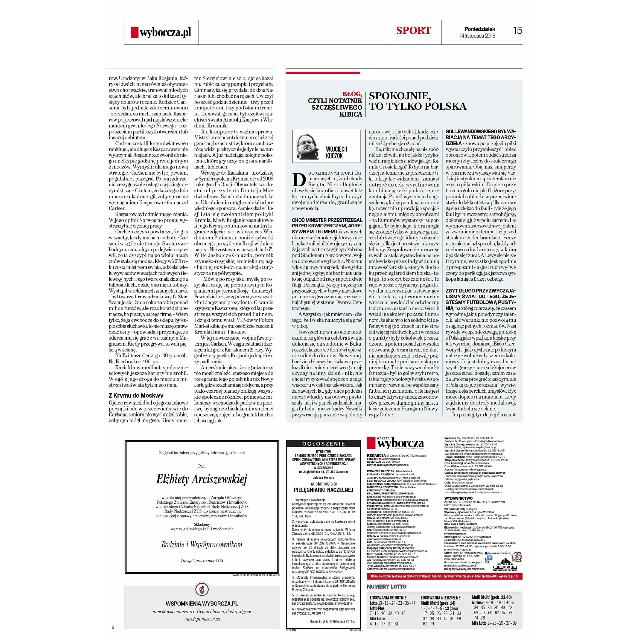article: (282, 65, 524, 425)
